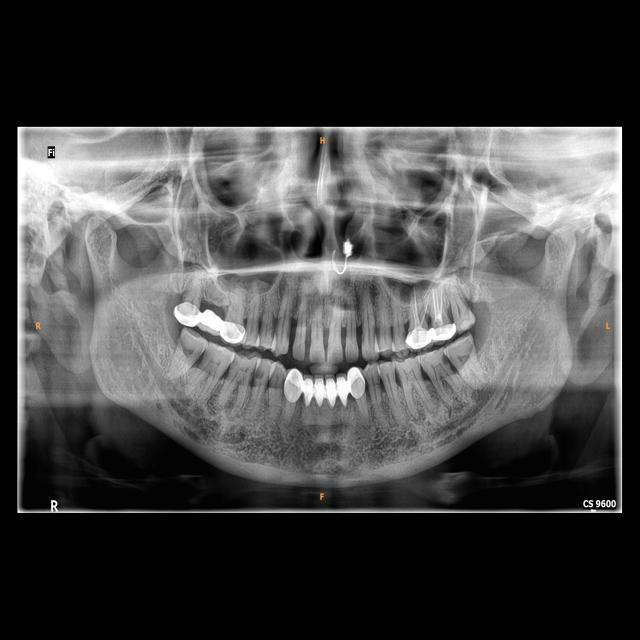dentin-curugu: (439, 349, 451, 368), (256, 366, 266, 386)
kanal-tedavisi: (403, 286, 428, 328), (430, 285, 446, 323)
kaplama: (165, 303, 201, 326), (346, 363, 367, 400), (222, 316, 244, 343), (285, 371, 303, 403), (429, 324, 456, 339), (408, 331, 430, 349)
kopru: (301, 371, 349, 413), (197, 303, 221, 339)
